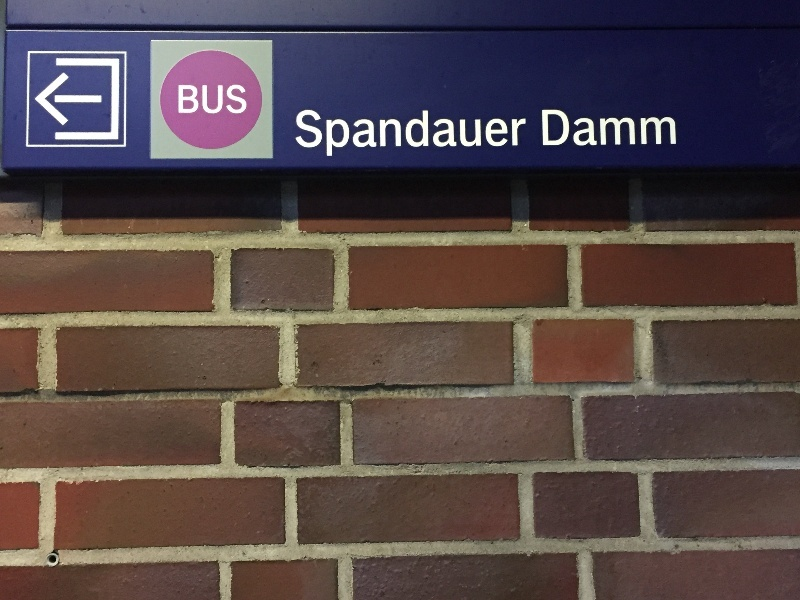text: (305, 109, 320, 159), (321, 109, 336, 159), (337, 109, 352, 159), (353, 109, 368, 159), (369, 109, 384, 159), (385, 109, 400, 159), (401, 109, 416, 159), (417, 109, 432, 159), (433, 109, 448, 159), (449, 109, 464, 159), (465, 109, 480, 159), (481, 109, 496, 159), (497, 109, 512, 159), (513, 109, 528, 159), (545, 109, 560, 147), (561, 109, 576, 147), (577, 109, 592, 147), (593, 109, 608, 147), (609, 109, 624, 147), (625, 109, 640, 147), (641, 109, 656, 147), (657, 109, 672, 147), (193, 85, 208, 114), (209, 85, 224, 114), (225, 85, 240, 114), (178, 85, 192, 114), (296, 109, 304, 159), (241, 85, 249, 114), (673, 109, 677, 147), (541, 109, 544, 147), (529, 109, 531, 159)
